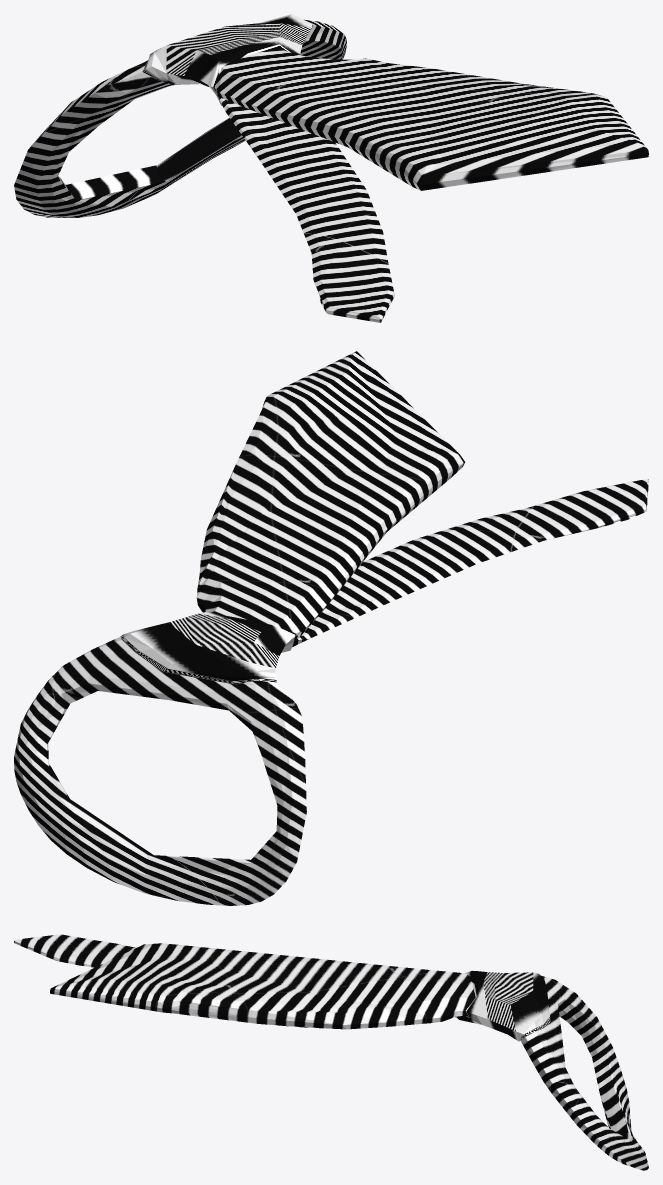
Rendered from JasperTie.fbx.
3 renders of one model, top to bottom at view 1: azimuth 30°, elevation 25°; view 2: azimuth 150°, elevation 25°; view 3: azimuth 270°, elevation 25°, orthographic. The views are drawn at different scales.
Visible parts, largest first — view 1: Jasper; view 2: Jasper; view 3: Jasper.
Part boxes in pixels (x1,y1,x2,y2): Jasper: (14, 14, 648, 322); Jasper: (14, 351, 648, 905); Jasper: (14, 934, 648, 1170).
Size of the model in its own units: 1735 by 1362 by 3420.
1 material, 1 textured.
